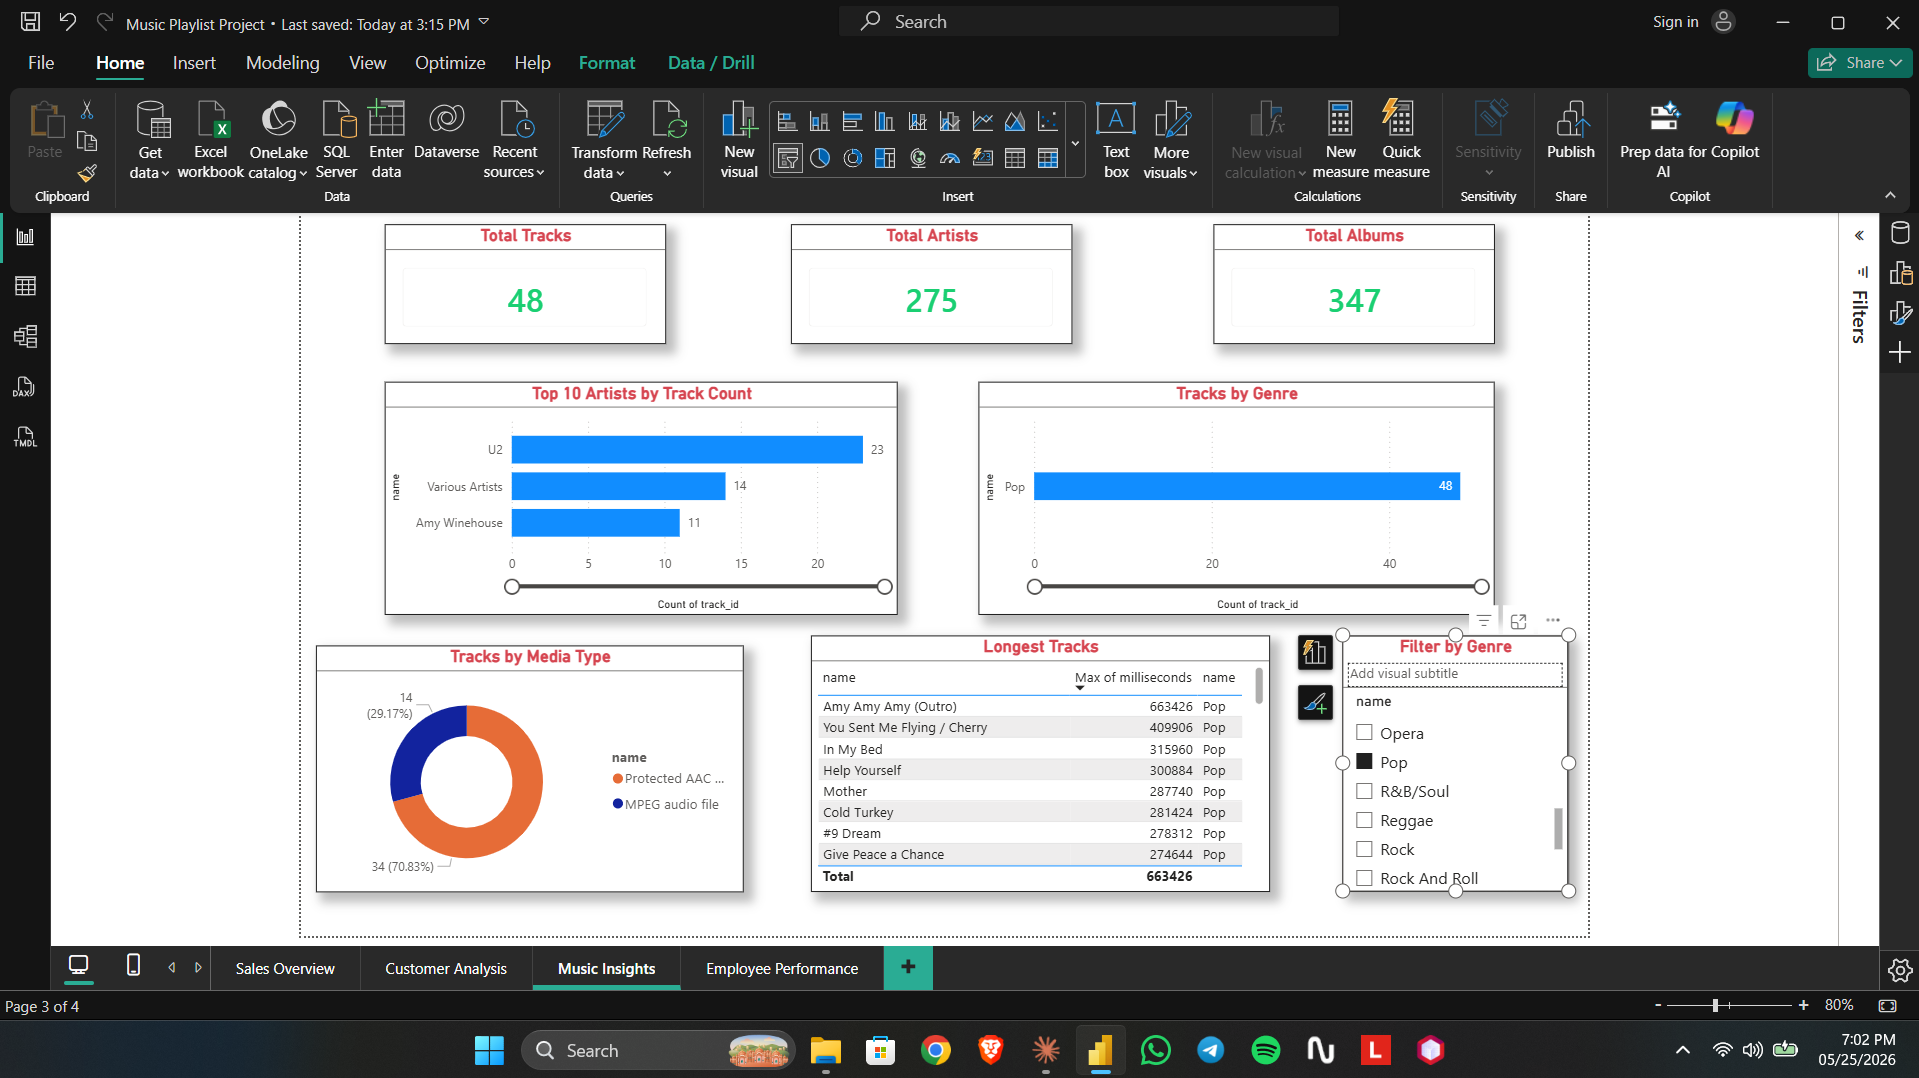

The page's visual inventory and layout, read from the dashboard file:
{"tool":"powerbi","page":{"name":"Music Insights","canvas":[1280,720],"ordinal":2},"visuals":[{"type":"cardVisual","title":"Total Tracks ","fields":{"Data":["CountNonNull(track.track_id)"]},"box":[83.3,11.2,279.9,119.4],"z":0},{"type":"cardVisual","title":"Total Artists","fields":{"Data":["CountNonNull(artist.artist_id)"]},"box":[487.6,11.2,279.9,119.4],"z":1000},{"type":"cardVisual","title":"Total Albums","fields":{"Data":["CountNonNull(album.album_id)"]},"box":[908.1,11.2,279.9,119.4],"z":2000},{"type":"clusteredBarChart","title":"Top 10 Artists by Track Count","fields":{"Category":["artist.name"],"Y":["CountNonNull(track.track_id)"]},"box":[83.7,167.4,510.7,232.3],"z":3000},{"type":"barChart","title":"Tracks by Genre","fields":{"Category":["genre.name"],"Y":["CountNonNull(track.track_id)"]},"box":[673.8,167.4,513.6,232.3],"z":4000},{"type":"donutChart","title":"Tracks by Media Type","fields":{"Category":["media_type.name"],"Y":["CountNonNull(track.track_id)"]},"box":[14.4,429.9,425.6,245.3],"z":5000},{"type":"tableEx","title":"Longest Tracks","fields":{"Values":["track.name","Max(track.milliseconds)","genre.name"]},"box":[507.5,420.5,456.5,255],"z":6000},{"type":"slicer","title":"Filter by Genre","fields":{"Values":["genre.name"]},"box":[1035.9,419.8,225.1,255.4],"z":7000}]}

Visuals, with their boxes on the page's 1280x720 design canvas (x1, y1, x2, y2). These are canvas units, not pixel positions in the 1919x1078 screenshot, which may show the page scaled, cropped or inside an application window:
"Total Tracks " cardVisual: region(83, 11, 363, 131)
"Total Artists" cardVisual: region(488, 11, 768, 131)
"Total Albums" cardVisual: region(908, 11, 1188, 131)
"Top 10 Artists by Track Count" clusteredBarChart: region(84, 167, 594, 400)
"Tracks by Genre" barChart: region(674, 167, 1187, 400)
"Tracks by Media Type" donutChart: region(14, 430, 440, 675)
"Longest Tracks" tableEx: region(508, 420, 964, 676)
"Filter by Genre" slicer: region(1036, 420, 1261, 675)
